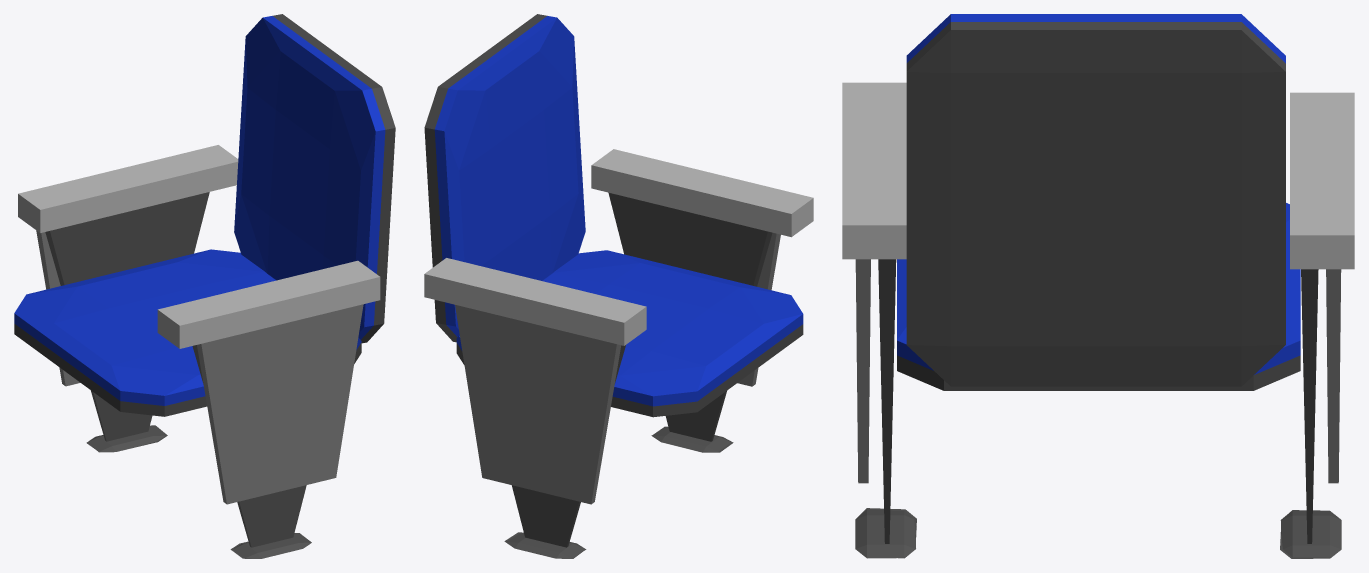
Rendered from Auditorium_Chair.fbx.
The picture shows the model from 3 angles, left to right: view 1: azimuth 30°, elevation 25°; view 2: azimuth 150°, elevation 25°; view 3: azimuth 270°, elevation 25°; orthographic projection. The views are drawn at different scales.
Visible parts, largest first — view 1: Seat.002, Side_of_Chair, Seat, Side_of_Chair_Metal.001, Cube, Cube.001, Side_of_Chair_Metal, Chair_to_Grounded, Chair_to_Grounded.001, Side_of_Chair.001; view 2: Seat.002, Side_of_Chair.001, Seat, Side_of_Chair_Metal, Cube, Cube.001, Side_of_Chair_Metal.001, Chair_to_Grounded.001, Chair_to_Grounded, Side_of_Chair; view 3: Seat.002, Cube, Cube.001, Seat, Side_of_Chair_Metal, Side_of_Chair_Metal.001, Side_of_Chair, Side_of_Chair.001, Chair_to_Grounded, Chair_to_Grounded.001.
Boxes of the visible parts, x1,y1,x2,y2 form: Seat.002: [234, 14, 395, 343]; Side_of_Chair: [197, 304, 363, 504]; Seat: [14, 249, 361, 416]; Side_of_Chair_Metal.001: [45, 192, 209, 441]; Cube: [157, 260, 380, 348]; Cube.001: [18, 145, 238, 232]; Side_of_Chair_Metal: [192, 345, 306, 547]; Chair_to_Grounded: [230, 533, 311, 558]; Chair_to_Grounded.001: [86, 425, 167, 452]; Side_of_Chair.001: [36, 230, 80, 386]; Seat.002: [424, 14, 585, 342]; Side_of_Chair.001: [455, 305, 621, 504]; Seat: [456, 250, 803, 417]; Side_of_Chair_Metal: [608, 192, 772, 441]; Cube: [591, 149, 813, 237]; Cube.001: [424, 258, 646, 345]; Side_of_Chair_Metal.001: [512, 345, 625, 547]; Chair_to_Grounded.001: [504, 532, 586, 558]; Chair_to_Grounded: [651, 426, 733, 452]; Side_of_Chair: [737, 233, 780, 386]; Seat.002: [906, 14, 1285, 386]; Cube: [842, 82, 906, 259]; Cube.001: [1290, 92, 1354, 269]; Seat: [897, 203, 1300, 390]; Side_of_Chair_Metal: [878, 259, 896, 543]; Side_of_Chair_Metal.001: [1301, 269, 1318, 543]; Side_of_Chair: [855, 259, 870, 483]; Side_of_Chair.001: [1326, 269, 1341, 483]; Chair_to_Grounded: [855, 508, 916, 558]; Chair_to_Grounded.001: [1280, 510, 1341, 558].
Bounding box in the file's own units: 308 × 460 × 355.
